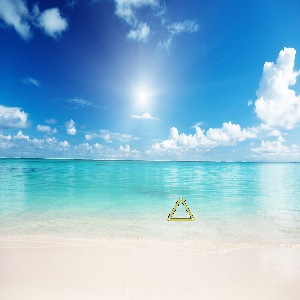triangle: (165, 195, 196, 223)
